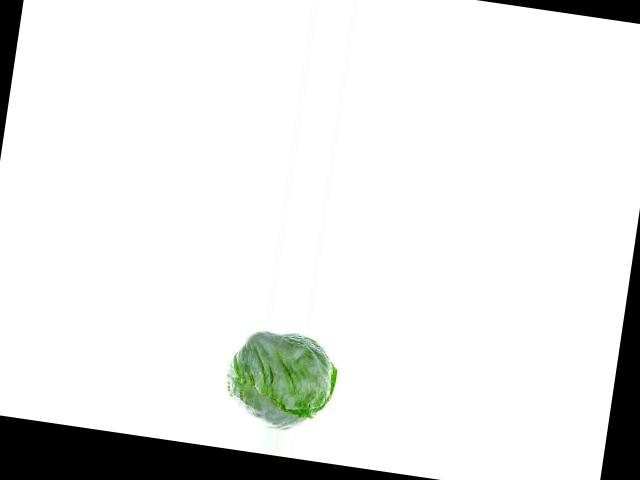lettuce: (222, 330, 339, 434)
